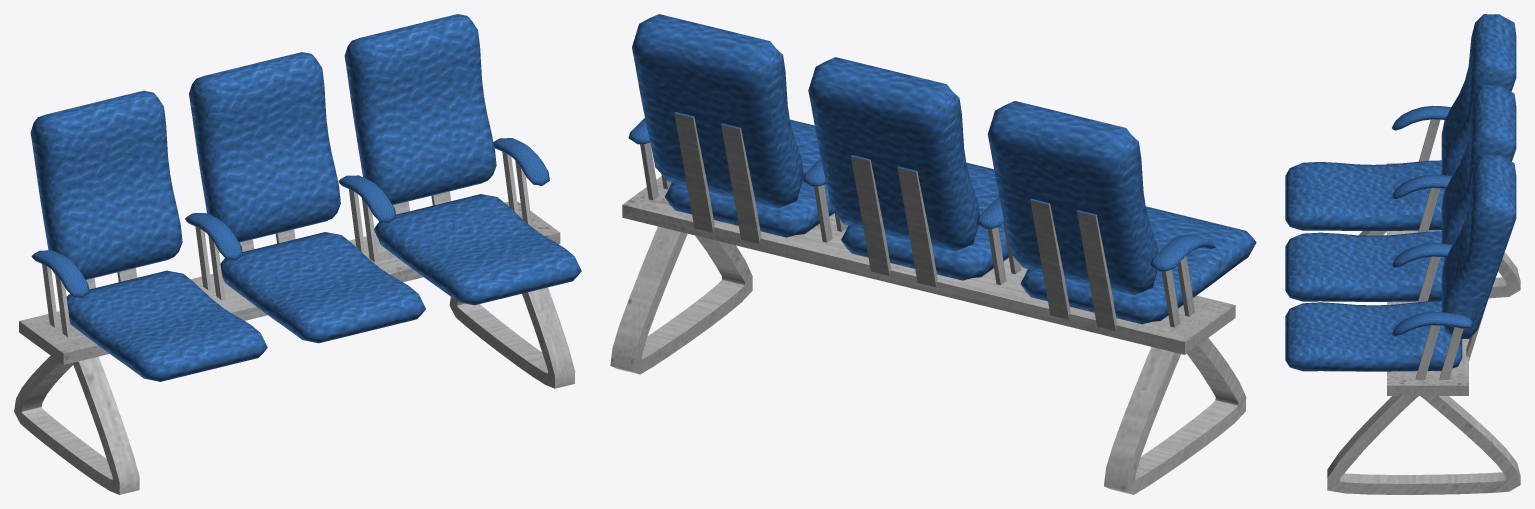
Rendered from Chair.fbx.
The picture shows the model from 3 angles, left to right: view 1: azimuth 30°, elevation 25°; view 2: azimuth 150°, elevation 25°; view 3: azimuth 270°, elevation 25°; orthographic projection. The views are drawn at different scales.
Visible parts, largest first — view 1: Chair; view 2: Chair; view 3: Chair.
Part boxes in pixels (x1,y1,x2,y2): Chair: [14, 14, 581, 494]; Chair: [610, 14, 1256, 494]; Chair: [1285, 14, 1520, 494].
Size of the model in its own units: 139 by 83.39 by 62.13.
3 materials, 3 textured.
